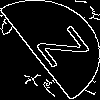Z: (25, 25, 91, 75)
